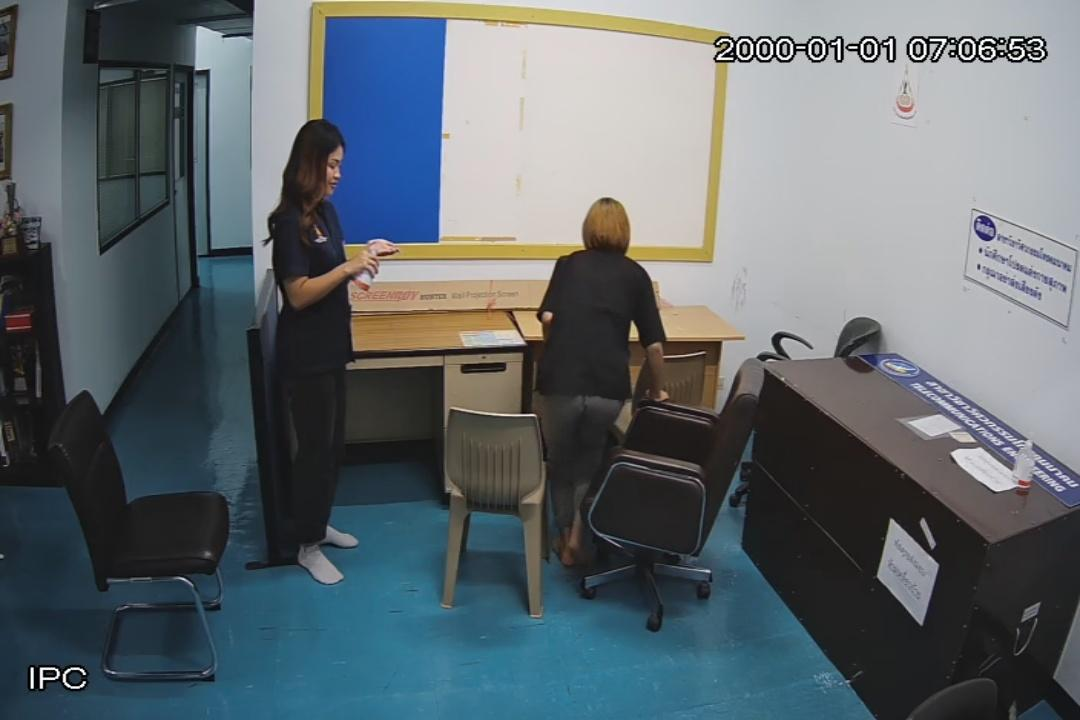normal: (270, 113, 397, 591), (531, 184, 671, 600)
